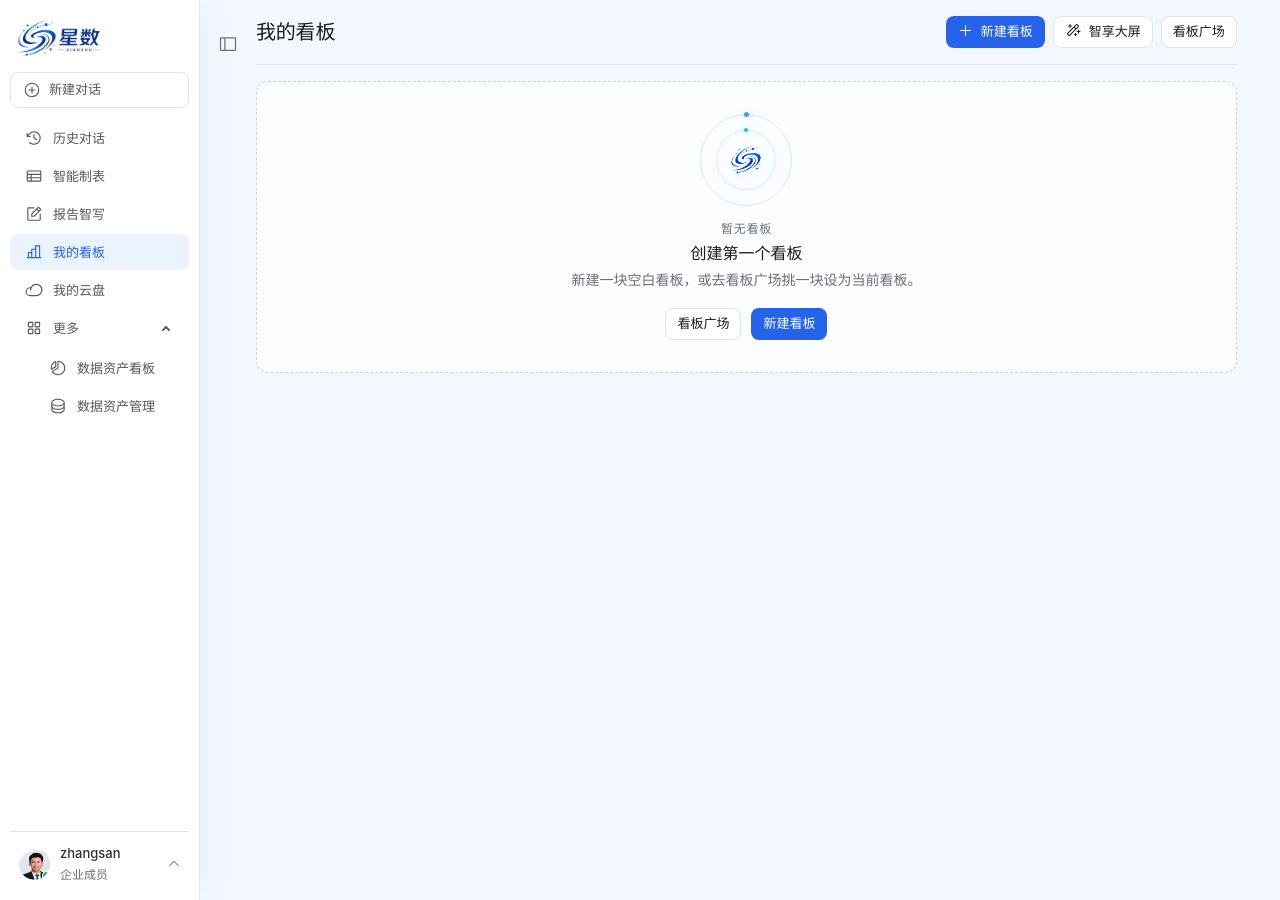
Test: AppRoutes › keeps the shared sidebar on routed pages
expect the navigation bar named "星数主导航" is shown: met, box [10,129,189,415]
expect the number of list items is 1: met, box [25,319,155,415]
Click the button named "收起侧边栏". click: (228, 44)
box: [212,28,244,60]
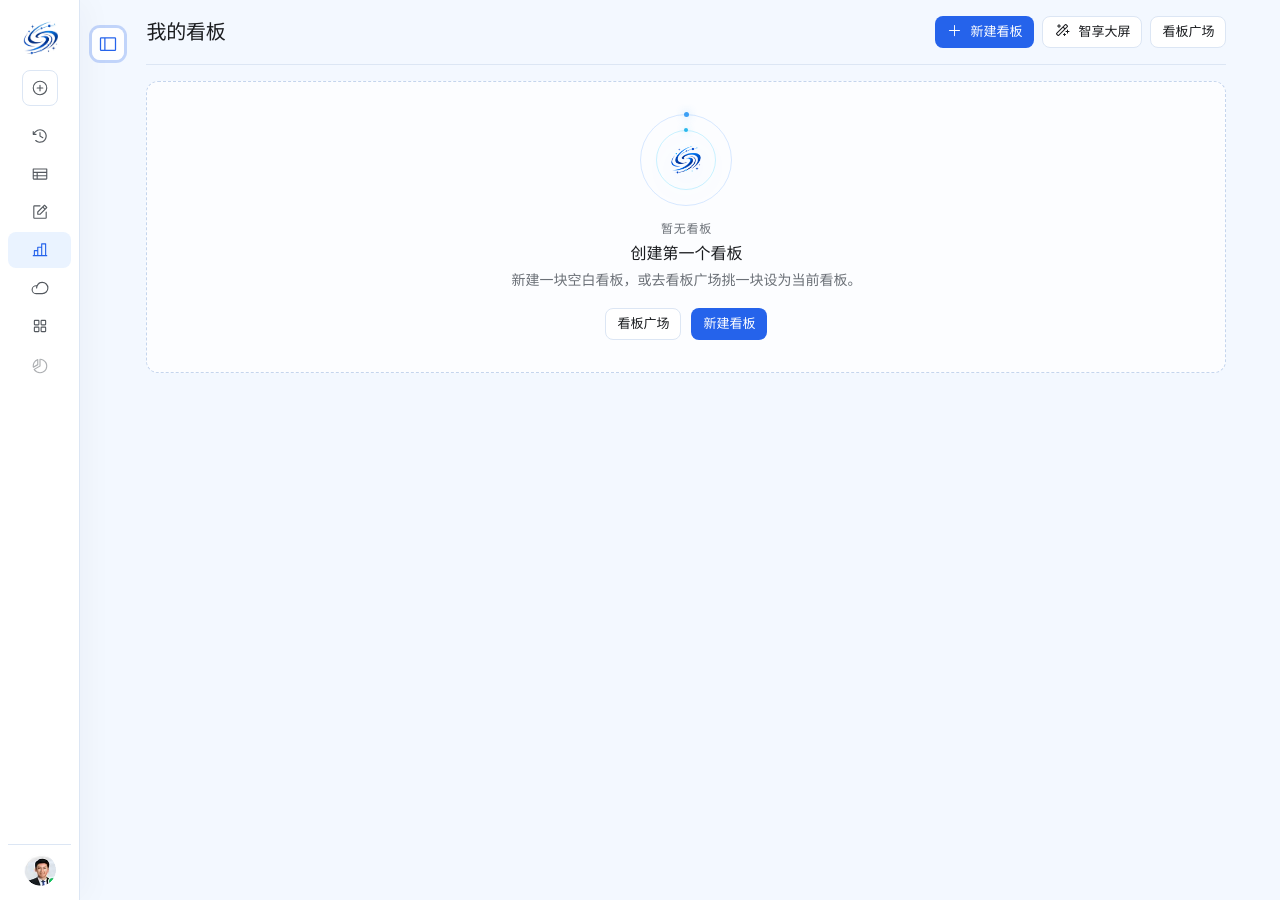
expect the element with class "xs-shell--sidebar-collapsed" is shown: met
expect the button named "展开侧边栏" is shown: met, box [92,28,124,60]
Click the 5th menu item named "我的云盘". click: (40, 288)
box: [30,279,48,297]
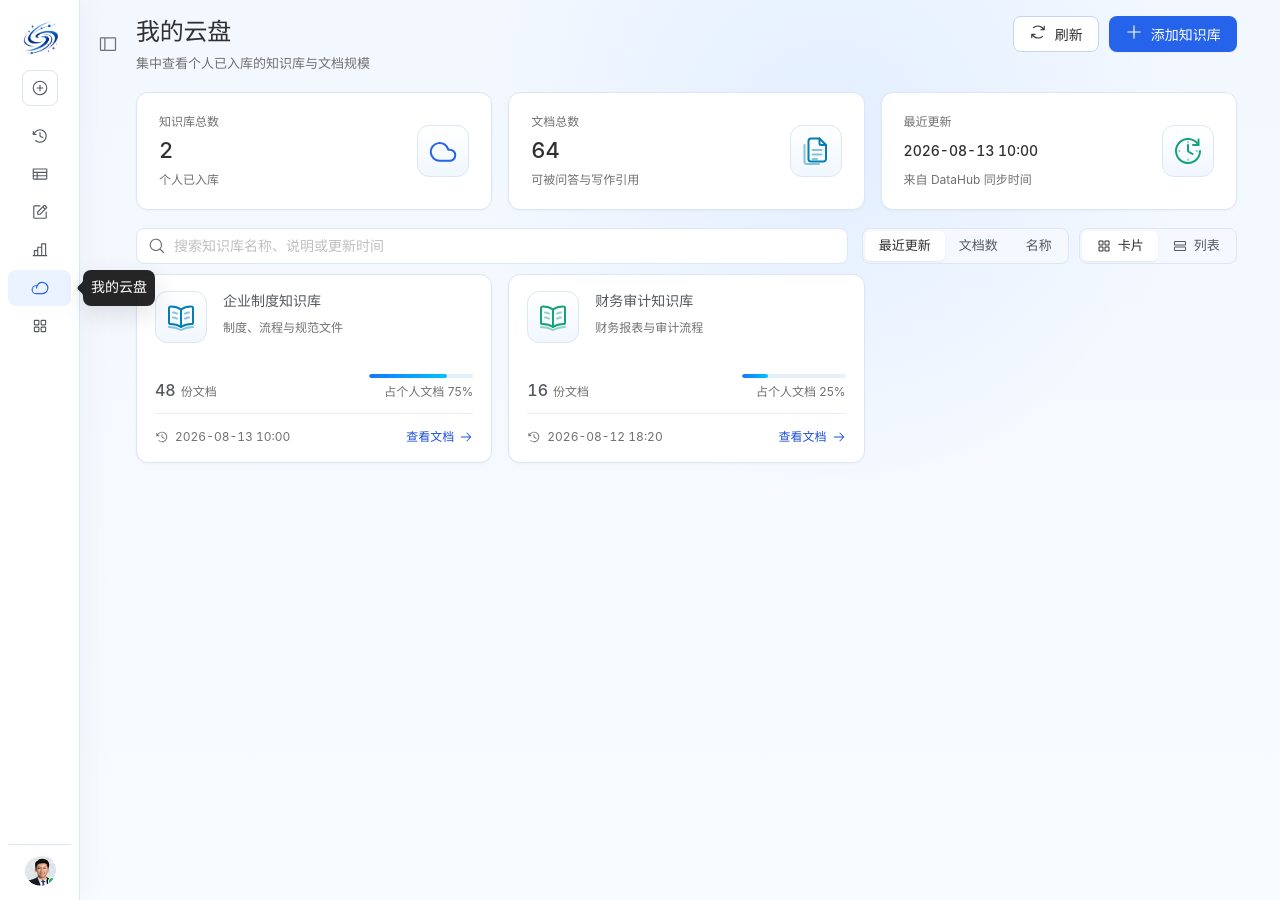
expect the heading "我的云盘" is shown: met, box [136,17,231,46]
